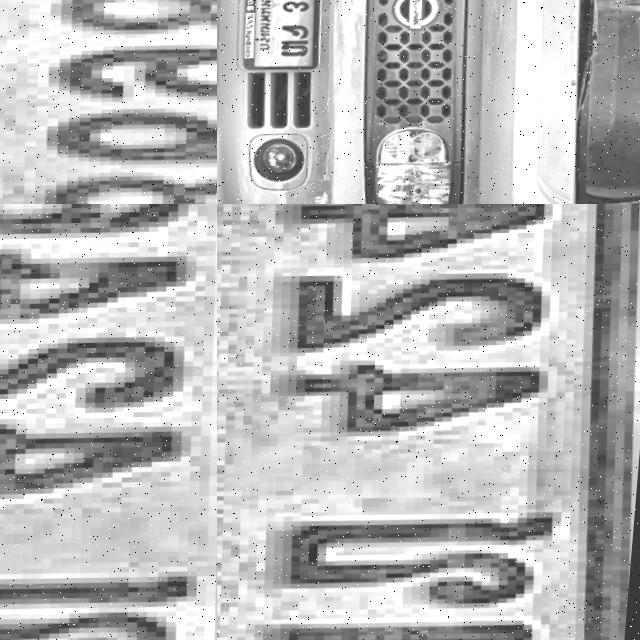license-plate: (217, 204, 640, 640), (0, 204, 217, 640), (0, 0, 217, 204), (221, 0, 339, 91)
